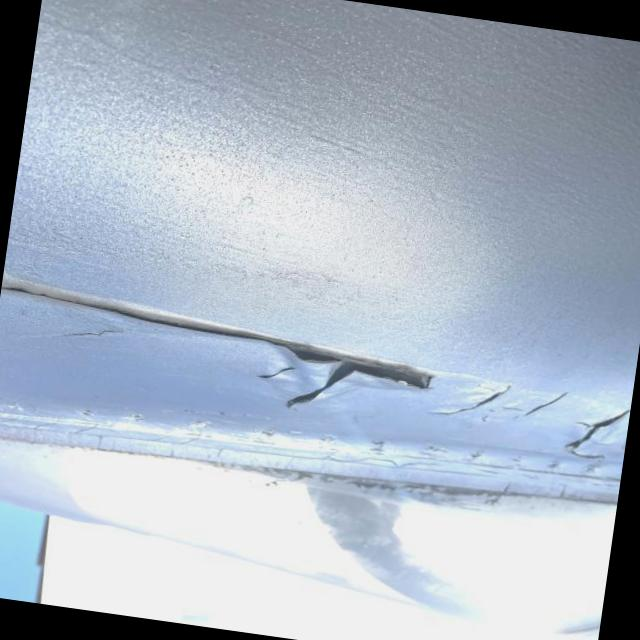crack: (452, 367, 562, 433), (73, 327, 134, 350), (258, 356, 308, 384)
